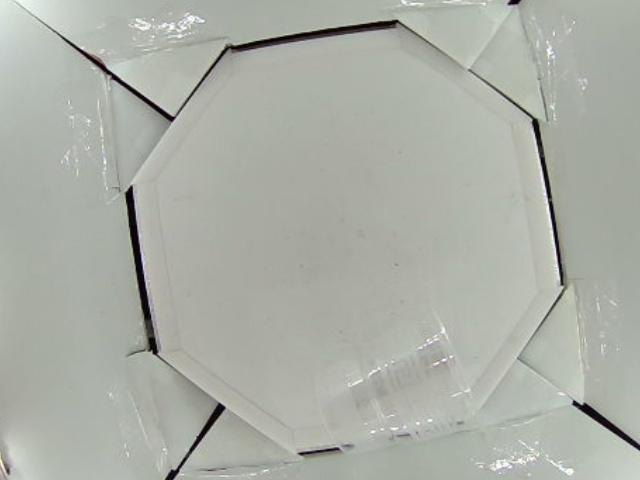Cup: (317, 312, 475, 453)
